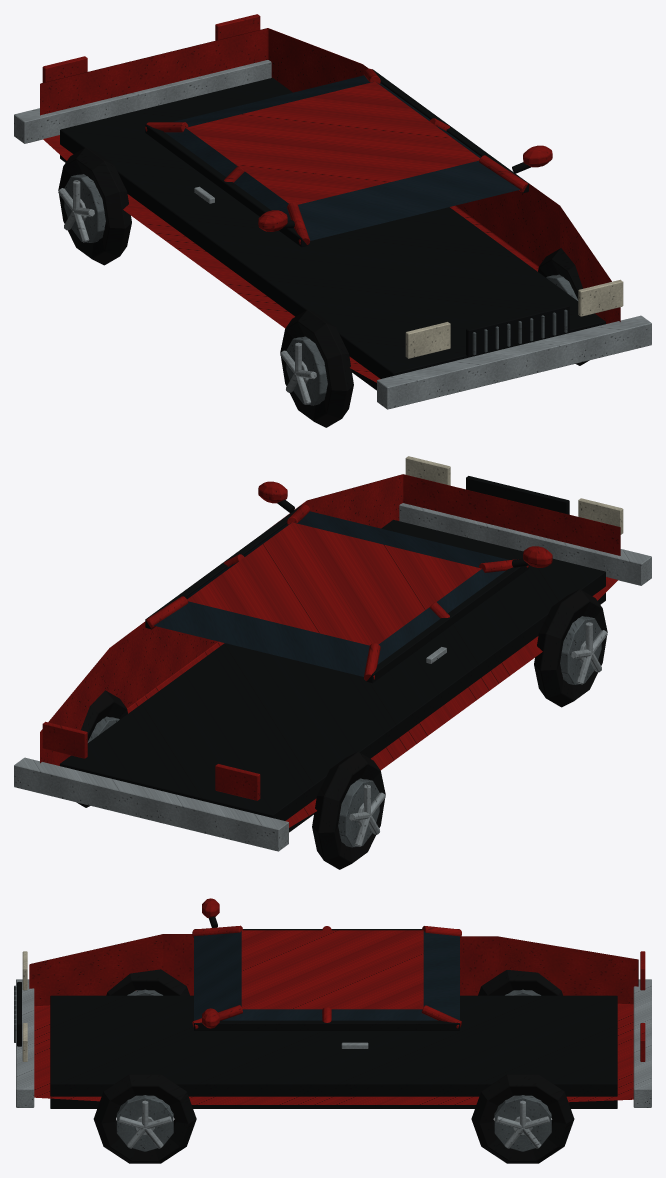
Rendered from PROP-E4E48824DC10_lod1.glb.
The picture shows the model from 3 angles, top to bottom: view 1: azimuth 30°, elevation 25°; view 2: azimuth 150°, elevation 25°; view 3: azimuth 270°, elevation 25°; orthographic projection. The views are drawn at different scales.
Parts seen in each view (by area): view 1: chassis.033, shaped_body_panels.033, roof_panel.031, bumper.033, sloped_cabin_glazing.033, tire.033, rim.033, window_belt.033, lamp_lenses.066, radiator_grille.033, window_pillars.033, rim_spokes.033 (+3 smaller); view 2: chassis.033, shaped_body_panels.033, roof_panel.031, bumper.033, sloped_cabin_glazing.033, tire.033, window_belt.033, rim.033, lamp_lenses.067, lamp_lenses.066, rim_spokes.033, window_pillars.033 (+2 smaller); view 3: chassis.033, shaped_body_panels.033, roof_panel.031, tire.033, sloped_cabin_glazing.033, bumper.033, rim.033, window_belt.033, rim_spokes.033, window_pillars.033, mirror.033, lamp_lenses.066 (+1 smaller).
Boxes of the visible parts, x1=… form: chassis.033: x1=60, y1=77, x2=605, y2=390; shaped_body_panels.033: x1=40, y1=28, x2=620, y2=382; roof_panel.031: x1=186, y1=81, x2=479, y2=204; bumper.033: x1=14, y1=60, x2=651, y2=409; sloped_cabin_glazing.033: x1=165, y1=75, x2=520, y2=240; tire.033: x1=58, y1=147, x2=589, y2=427; rim.033: x1=64, y1=174, x2=578, y2=405; window_belt.033: x1=145, y1=69, x2=528, y2=247; lamp_lenses.066: x1=405, y1=279, x2=623, y2=358; radiator_grille.033: x1=466, y1=304, x2=569, y2=356; window_pillars.033: x1=145, y1=68, x2=527, y2=244; rim_spokes.033: x1=58, y1=180, x2=316, y2=404; chassis.033: x1=60, y1=519, x2=605, y2=832; shaped_body_panels.033: x1=40, y1=474, x2=620, y2=827; roof_panel.031: x1=187, y1=522, x2=481, y2=645; bumper.033: x1=14, y1=503, x2=651, y2=851; sloped_cabin_glazing.033: x1=154, y1=511, x2=508, y2=676; tire.033: x1=76, y1=589, x2=607, y2=869; window_belt.033: x1=145, y1=505, x2=528, y2=683; rim.033: x1=87, y1=616, x2=601, y2=847; lamp_lenses.067: x1=42, y1=721, x2=260, y2=800; lamp_lenses.066: x1=405, y1=456, x2=623, y2=534; rim_spokes.033: x1=349, y1=622, x2=607, y2=846; window_pillars.033: x1=146, y1=504, x2=528, y2=681; chassis.033: x1=50, y1=995, x2=617, y2=1108; shaped_body_panels.033: x1=29, y1=934, x2=638, y2=1104; roof_panel.031: x1=241, y1=930, x2=423, y2=1009; tire.033: x1=93, y1=969, x2=574, y2=1163; sloped_cabin_glazing.033: x1=194, y1=931, x2=459, y2=1020; bumper.033: x1=16, y1=979, x2=651, y2=1107; rim.033: x1=116, y1=989, x2=551, y2=1151; window_belt.033: x1=194, y1=929, x2=459, y2=1030; rim_spokes.033: x1=118, y1=1100, x2=549, y2=1148; window_pillars.033: x1=192, y1=925, x2=461, y2=1028; mirror.033: x1=202, y1=898, x2=219, y2=1028; lamp_lenses.066: x1=22, y1=951, x2=27, y2=1061.
Bounding box in the file's own units: 2.09 × 1.22 × 4.56.
7 materials, 7 textured.
